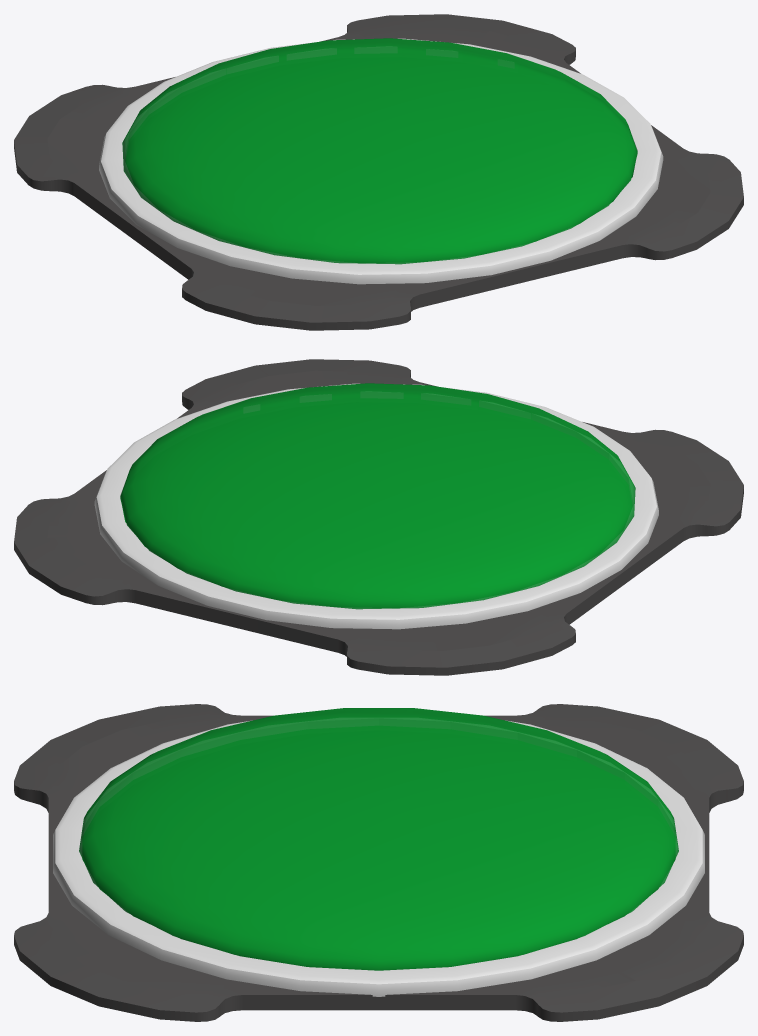
File: Jumpad_B.fbx
3 renders of one model, top to bottom at view 1: azimuth 30°, elevation 25°; view 2: azimuth 150°, elevation 25°; view 3: azimuth 270°, elevation 25°, orthographic. The views are drawn at different scales.
Parts seen in each view (by area): view 1: Bouncy, Jumpad_Base, Jumpad_Frame; view 2: Bouncy, Jumpad_Base, Jumpad_Frame; view 3: Bouncy, Jumpad_Base, Jumpad_Frame.
Part boxes in pixels (x1,y1,x2,y2): Bouncy: (122,38,637,264); Jumpad_Base: (14,14,743,330); Jumpad_Frame: (99,38,663,284); Bouncy: (120,383,635,609); Jumpad_Base: (14,359,743,675); Jumpad_Frame: (94,383,658,629); Bouncy: (79,708,678,970); Jumpad_Base: (14,704,743,1021); Jumpad_Frame: (53,720,704,996).
Bounding box in the file's own units: 2.4 × 2.4 × 0.2708.
